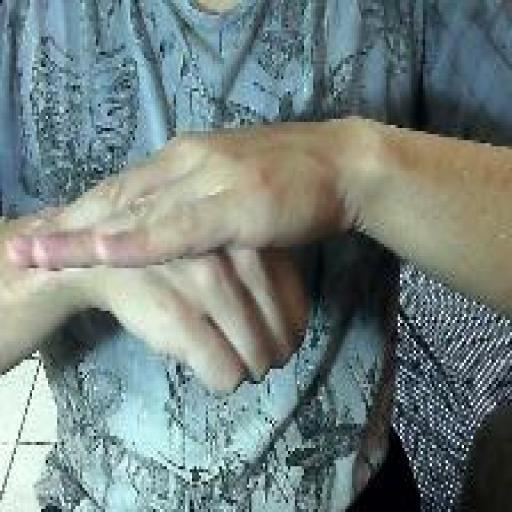Inu -dog-: (2, 122, 311, 402)
